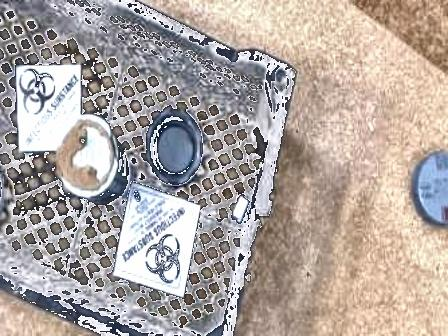infectious-substance: (108, 179, 201, 299), (16, 61, 83, 150)
